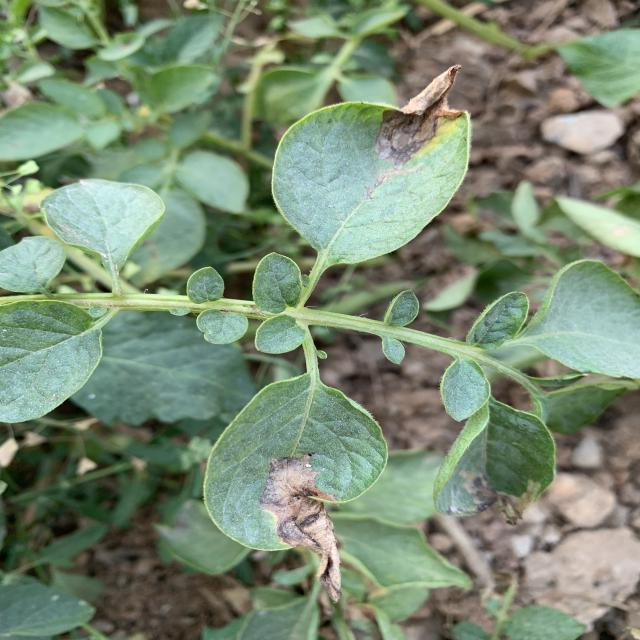lateblight: (260, 454, 342, 601), (375, 65, 463, 169)
